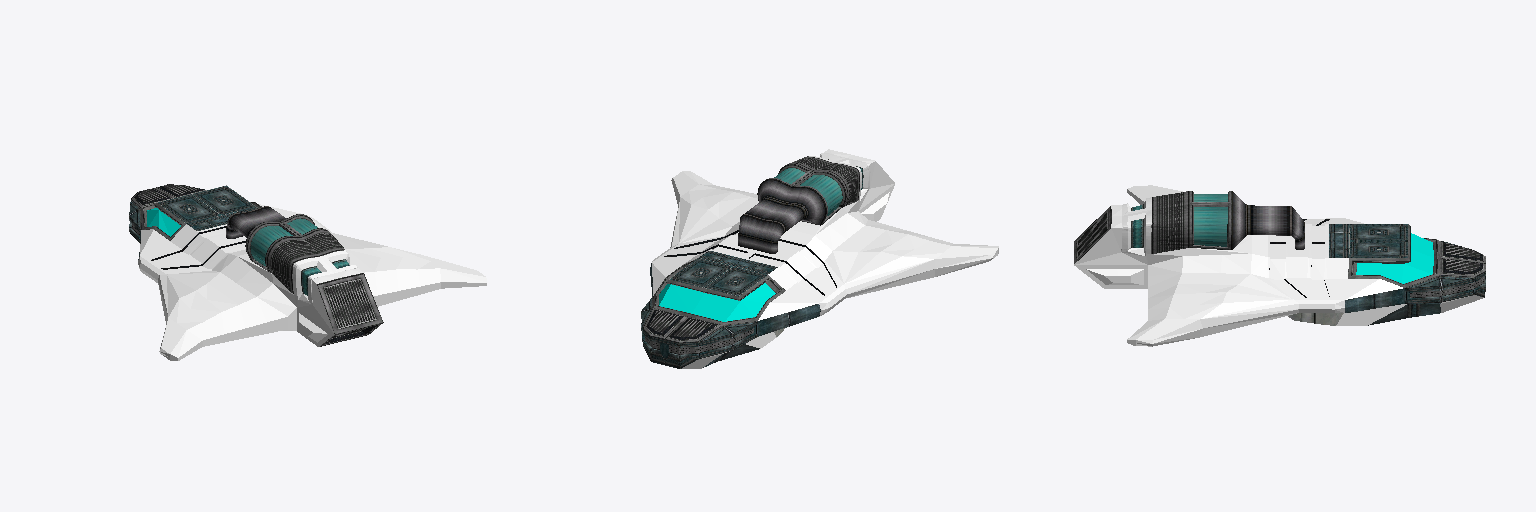
3 views of the same model, side by side, from view 1: azimuth 30°, elevation 25°; view 2: azimuth 150°, elevation 25°; view 3: azimuth 270°, elevation 25° (orthographic).
Parts seen in each view (by area): view 1: Cube; view 2: Cube; view 3: Cube.
Part boxes in pixels (x1,y1,x2,y2): Cube: (129, 184, 486, 360); Cube: (641, 149, 998, 368); Cube: (1074, 185, 1485, 346).
Bounding box in the file's own units: 23.36 × 7.7 × 26.02.
5 materials, 3 textured.